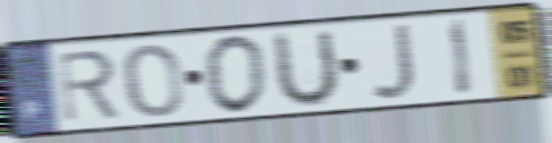I: (448, 16, 476, 99)
J: (367, 20, 418, 103)
O: (201, 33, 270, 117), (120, 41, 186, 120)
R: (54, 47, 123, 127)
U: (272, 26, 343, 112)
